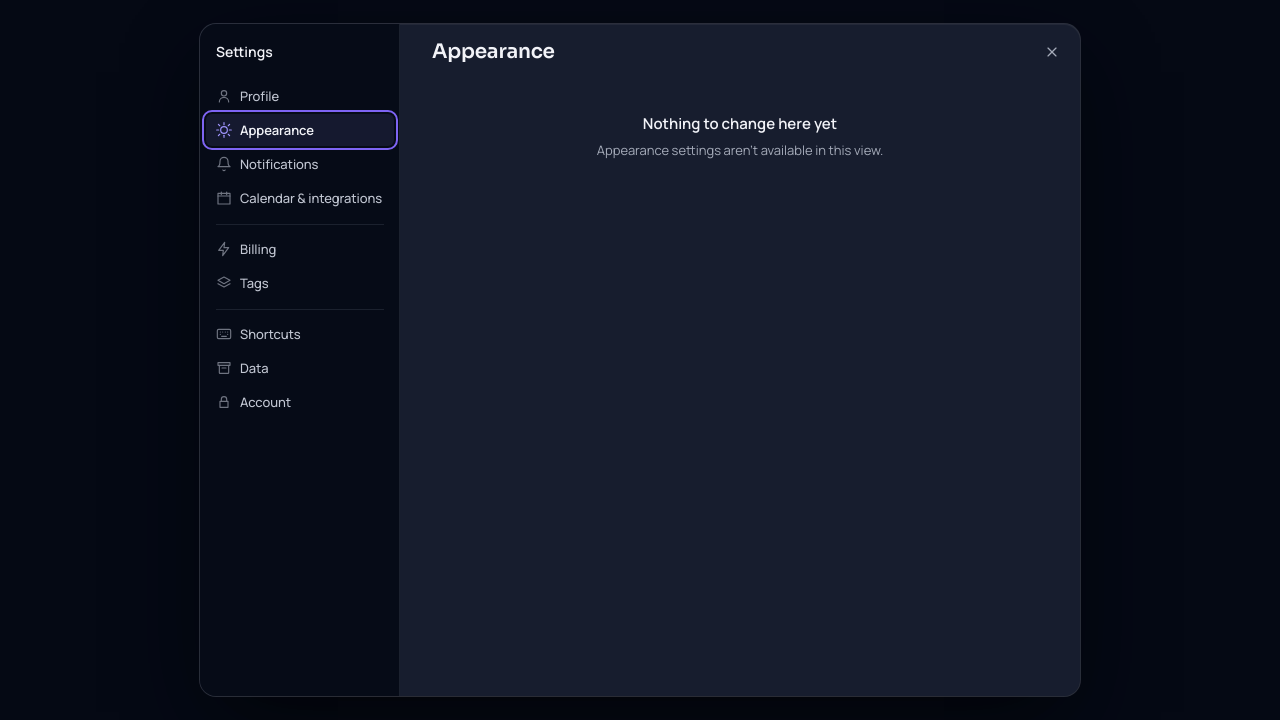
Scenario: Sign out of all devices › asks first, with focus on Cancel
Click the tab "Account": [300, 402] box [206,386,394,418]
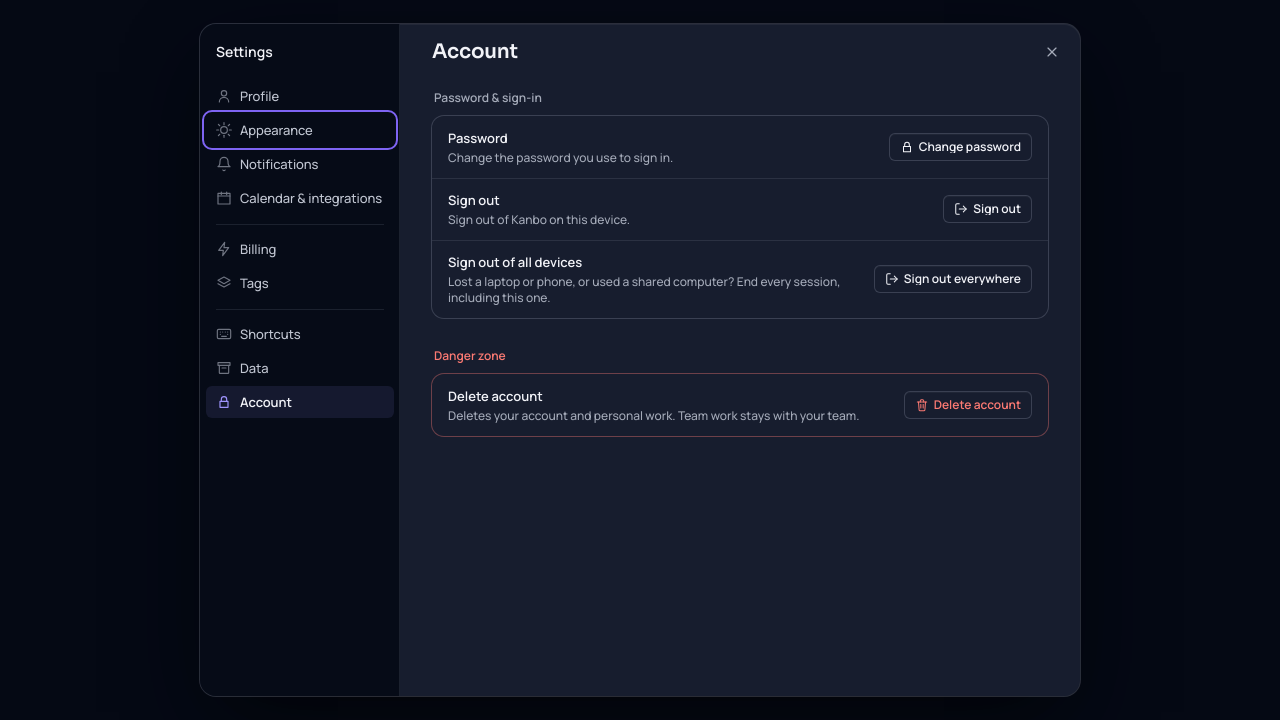
Click the button "Sign out everywhere": [953, 279] box [874,265,1032,293]
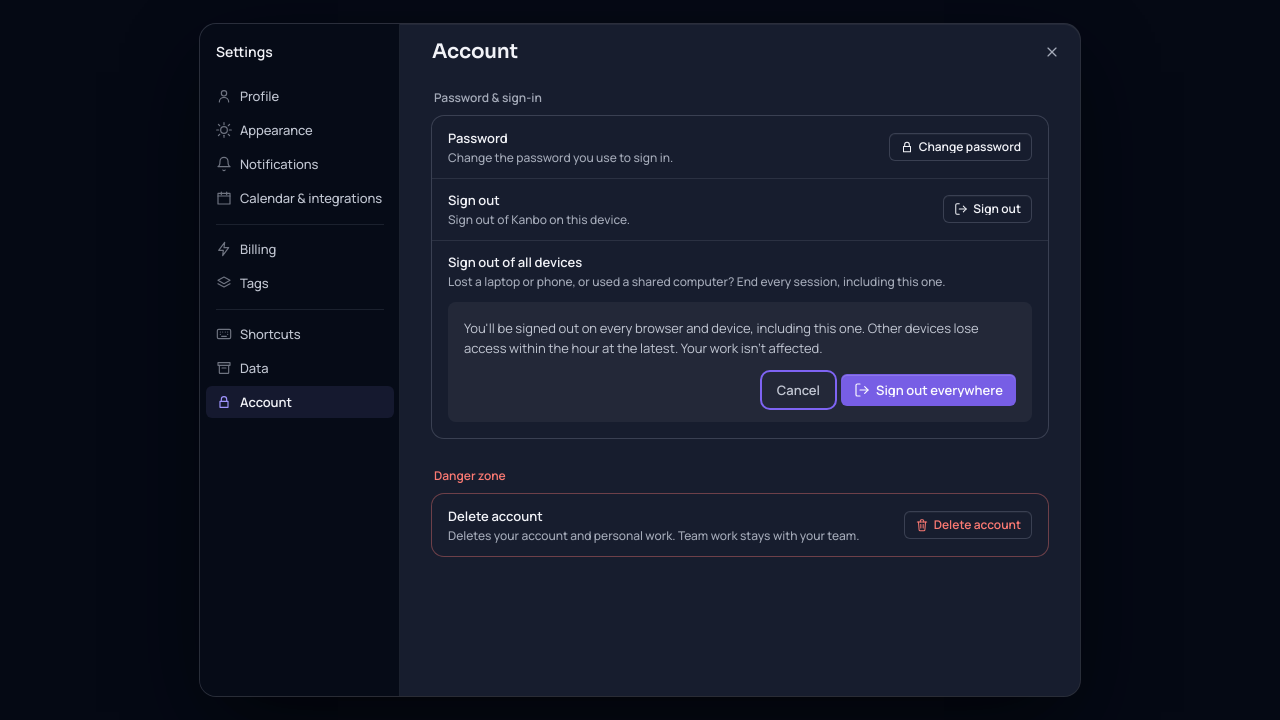
Check: the text "every browser and device, including this one" is shown, box [464,319,979,357]
